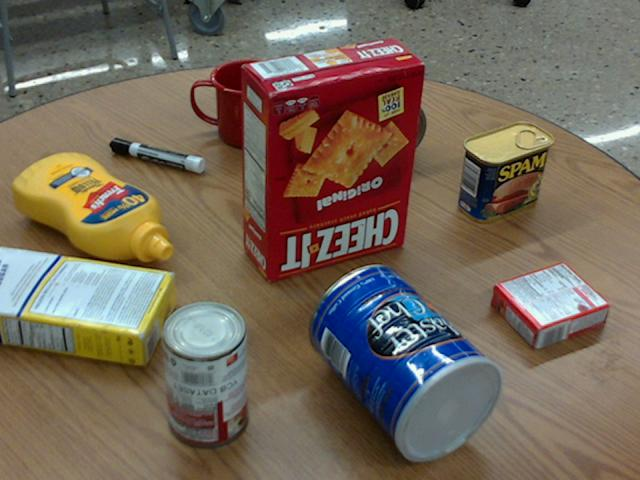cracker_box: (239, 36, 425, 282)
gelatin_box: (490, 260, 609, 347)
large_marker: (109, 138, 204, 172)
master_chef_can: (309, 263, 505, 462)
mug: (190, 60, 285, 149)
mustard_bottle: (13, 152, 172, 261)
potted_meat_can: (458, 121, 552, 223)
sugar_box: (0, 244, 175, 367)
tomato_soup_can: (162, 299, 251, 446)
tuna_fish_can: (351, 88, 425, 162)
